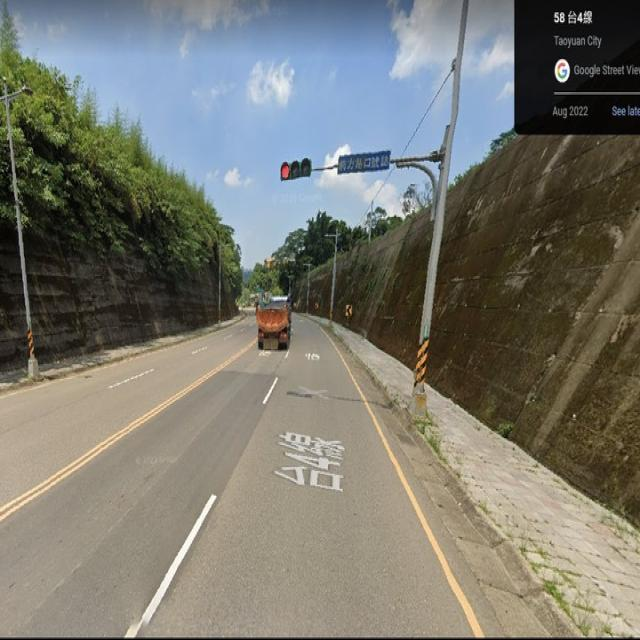red light: (280, 156, 313, 180)
